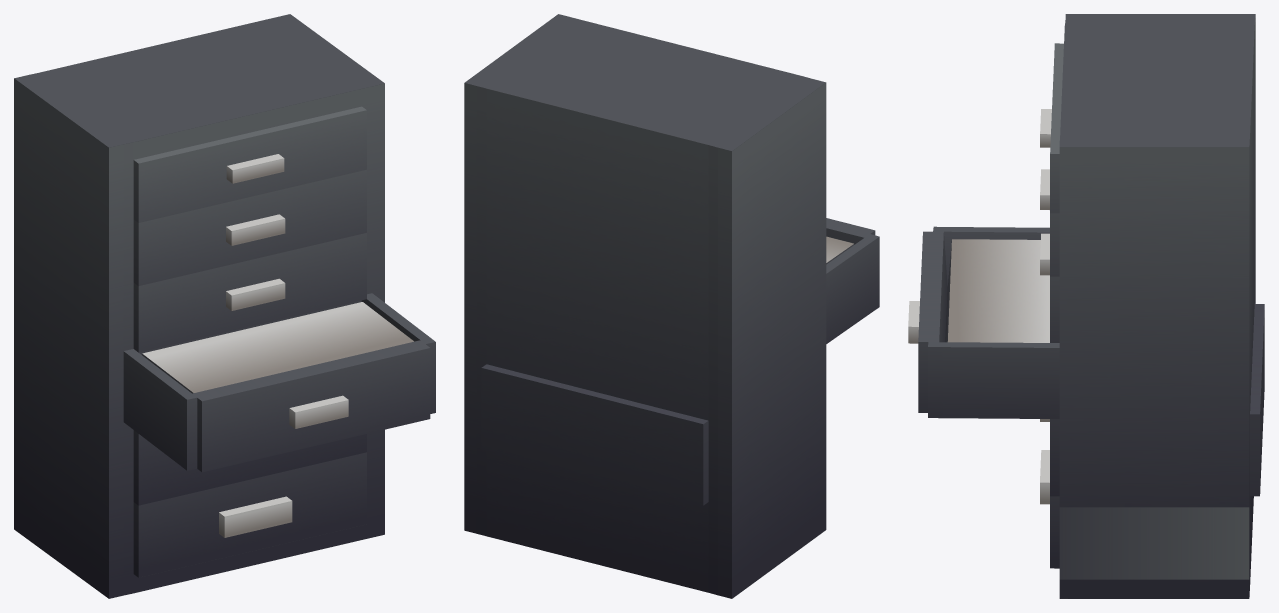
Rendered from cabinet.fbx.
3 renders of one model, left to right at view 1: azimuth 30°, elevation 25°; view 2: azimuth 150°, elevation 25°; view 3: azimuth 270°, elevation 25°, orthographic.
Parts seen in each view (by area): view 1: Dresser; view 2: Dresser; view 3: Dresser.
Boxes of the visible parts, x1=… form: Dresser: x1=14, y1=14, x2=435, y2=598; Dresser: x1=464, y1=14, x2=879, y2=598; Dresser: x1=908, y1=14, x2=1264, y2=598.
Size of the model in its own units: 27.87 by 44.03 by 31.5.
1 material, 1 textured.
